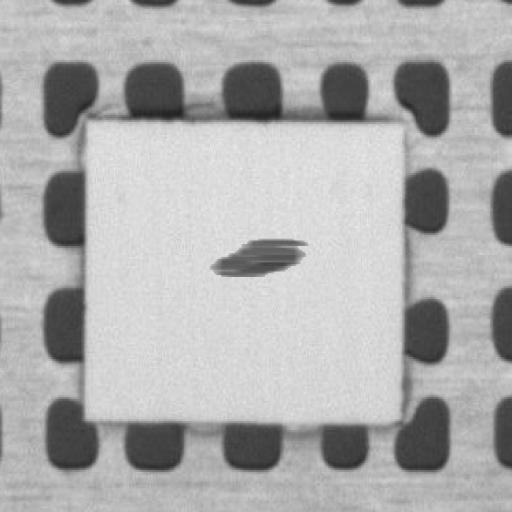DIE_INK: (206, 235, 306, 275)
